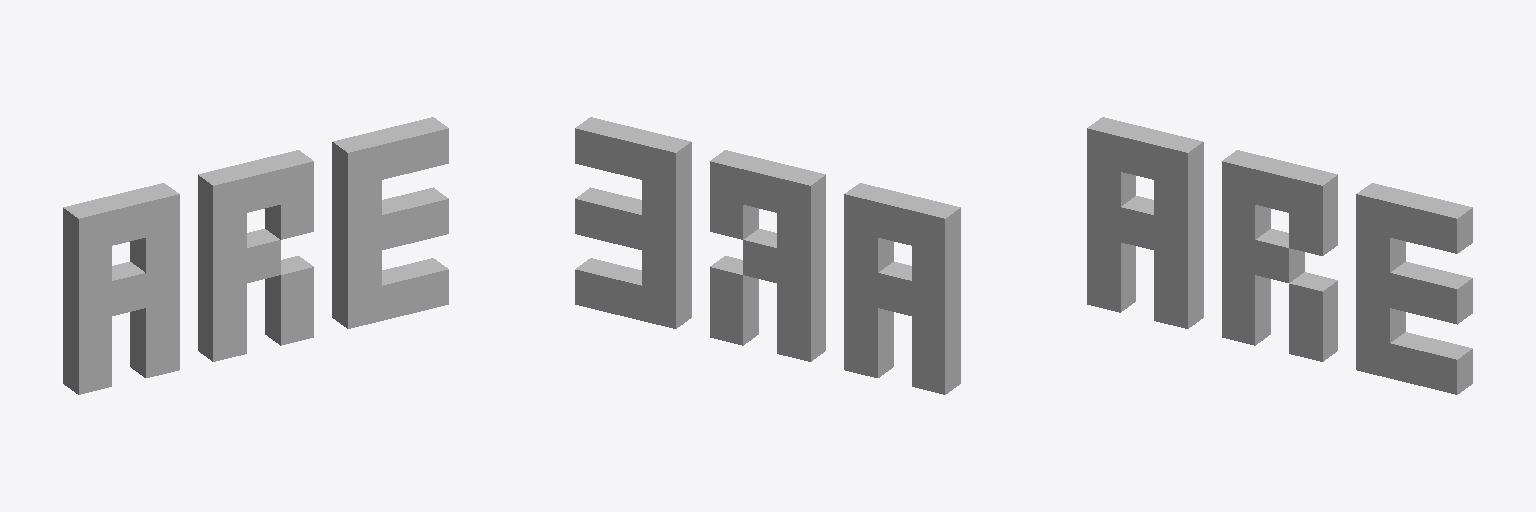
The model's file is are.obj.
3 views of the same model, side by side, from view 1: azimuth 30°, elevation 25°; view 2: azimuth 150°, elevation 25°; view 3: azimuth 330°, elevation 25° (orthographic).
Parts seen in each view (by area): view 1: Text.001; view 2: Text.001; view 3: Text.001.
Part boxes in pixels (x1,y1,x2,y2): Text.001: (63,117,448,394); Text.001: (575,117,960,394); Text.001: (1087,117,1472,394).
Bounding box in the file's own units: 1.38 × 0.625 × 0.1.